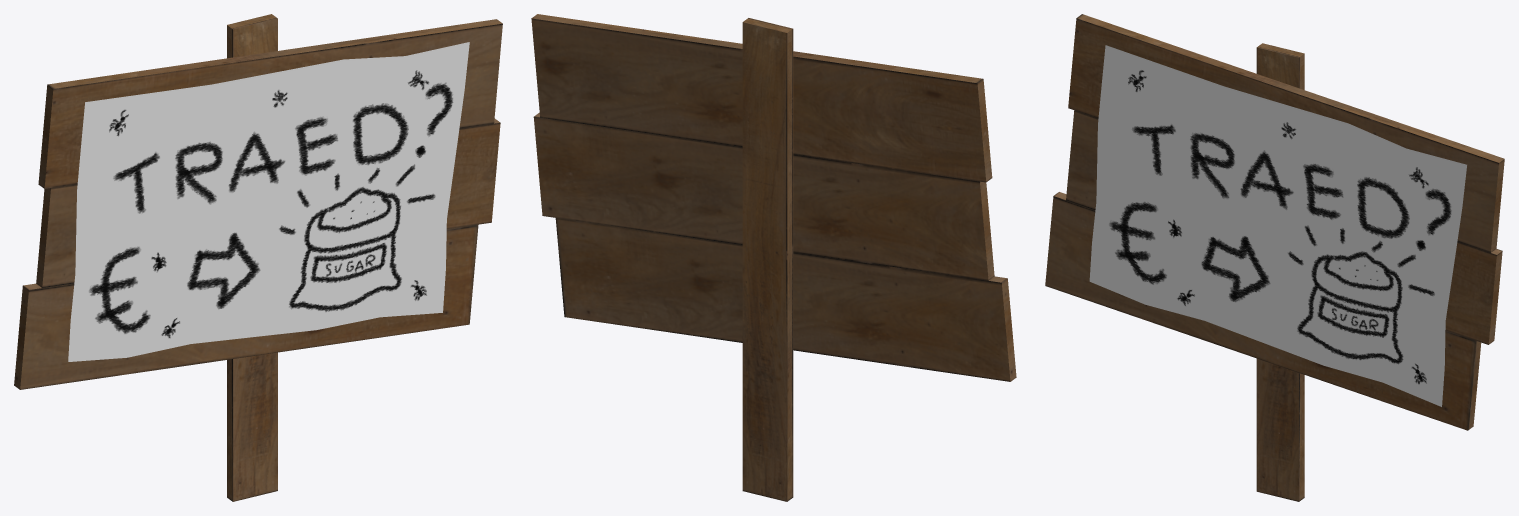
The model's file is tradedeal.glb.
3 views of the same model, side by side, from view 1: azimuth 30°, elevation 25°; view 2: azimuth 150°, elevation 25°; view 3: azimuth 330°, elevation 25° (orthographic). The views are drawn at different scales.
Visible parts, largest first — view 1: Cube; view 2: Cube; view 3: Cube.
Boxes of the visible parts, x1=… form: Cube: x1=14, y1=14, x2=502, y2=501; Cube: x1=531, y1=14, x2=1016, y2=501; Cube: x1=1045, y1=14, x2=1504, y2=501.
Bounding box in the file's own units: 9.13 × 8.54 × 0.4126.
1 material, 1 textured.
